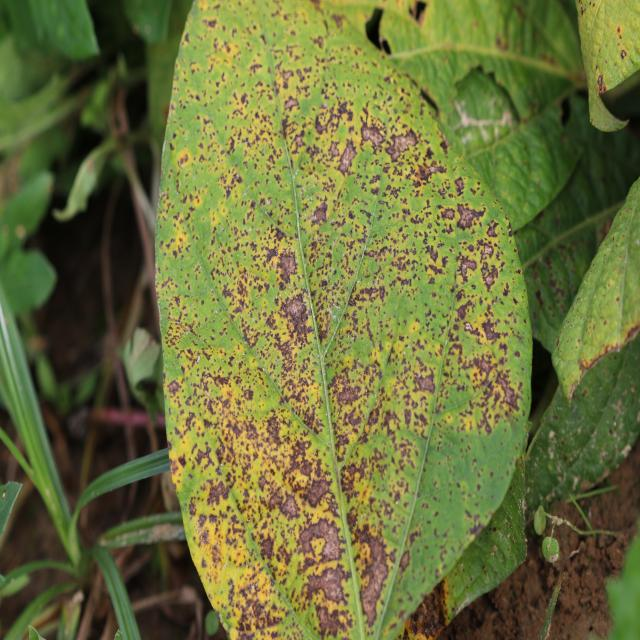Bacterial_Blight: (178, 350, 267, 445), (264, 292, 324, 385), (191, 491, 246, 574), (233, 565, 284, 633), (328, 362, 375, 432), (358, 546, 390, 628), (338, 269, 387, 314), (307, 563, 347, 611), (320, 86, 355, 139), (297, 517, 338, 562), (217, 255, 253, 302), (420, 246, 461, 286), (280, 288, 312, 331), (385, 129, 418, 162), (316, 602, 346, 638), (306, 476, 332, 508), (456, 204, 483, 231), (227, 78, 254, 105), (176, 185, 200, 215), (206, 479, 230, 507), (338, 140, 358, 173), (496, 380, 518, 410), (221, 171, 246, 197), (360, 122, 385, 148), (480, 317, 504, 343), (278, 492, 301, 519), (201, 11, 223, 39), (414, 162, 438, 186), (278, 252, 297, 279), (480, 264, 499, 290), (311, 200, 329, 225), (258, 535, 275, 561), (415, 372, 435, 393), (458, 257, 477, 278), (293, 131, 308, 152), (283, 95, 299, 112), (485, 220, 499, 238), (176, 149, 190, 167), (453, 176, 466, 195), (196, 513, 208, 532), (440, 207, 456, 221), (166, 378, 180, 394), (484, 245, 493, 256), (464, 322, 473, 332), (264, 197, 271, 207)
Soybean: (156, 1, 531, 638)
